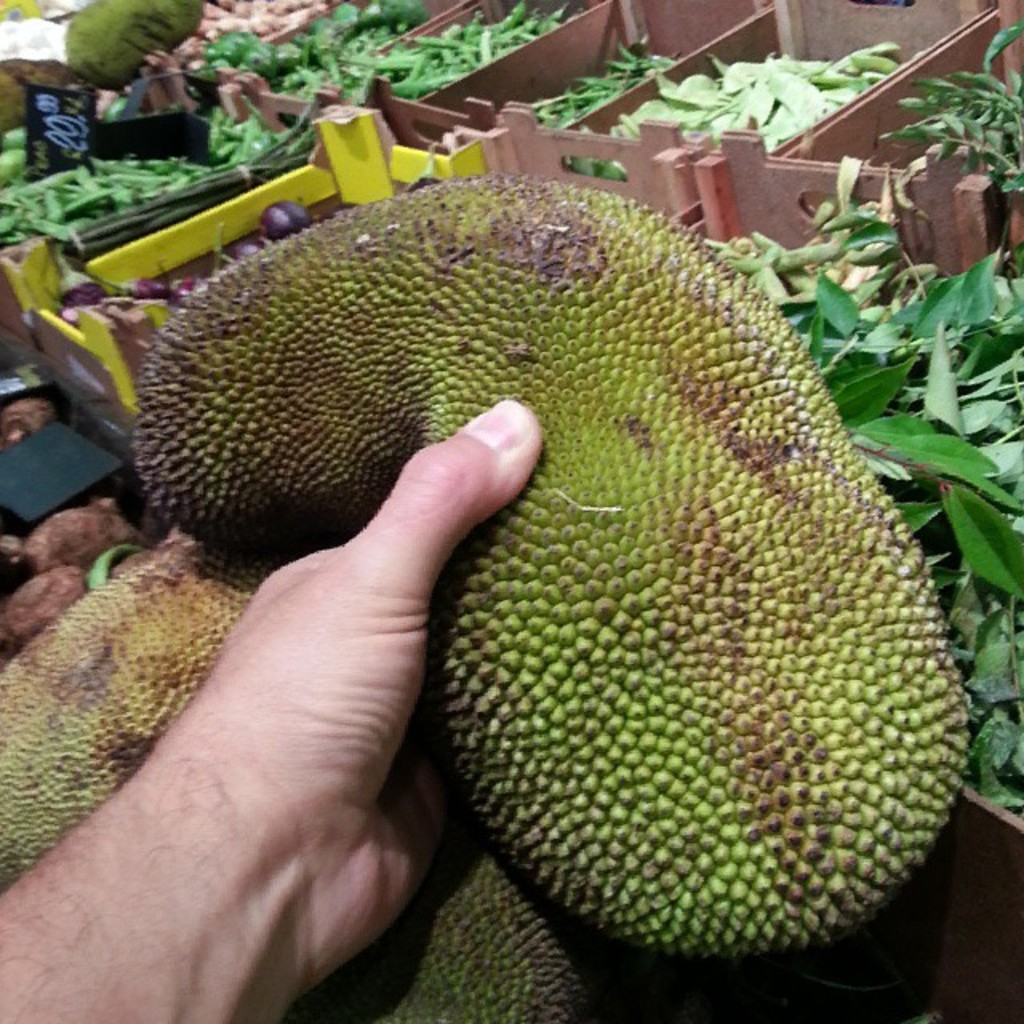Human_hand: (154, 401, 542, 995)
